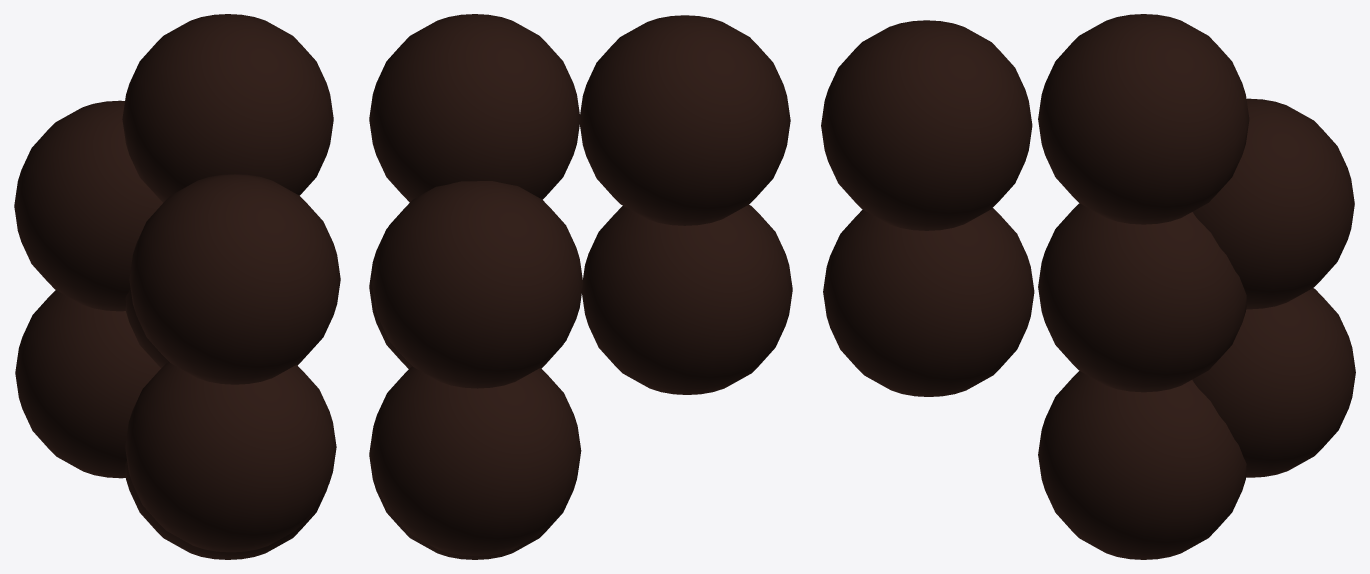
Rendered from Boba.glb.
3 renders of one model, left to right at view 1: azimuth 30°, elevation 25°; view 2: azimuth 150°, elevation 25°; view 3: azimuth 270°, elevation 25°, orthographic.
Parts seen in each view (by area): view 1: Sphere.005, Sphere.002, Sphere.006, Sphere.004, Sphere.001, Sphere, Sphere.003; view 2: Sphere.005, Sphere.004, Sphere.002, Sphere.001, Sphere.006, Sphere, Sphere.003; view 3: Sphere.005, Sphere.006, Sphere.002, Sphere.003, Sphere, Sphere.004, Sphere.001.
Boxes of the visible parts, box(x1,y1,x2,y2) form: Sphere.005: box(129, 174, 340, 384); Sphere.002: box(125, 362, 336, 552); Sphere.006: box(122, 14, 333, 202); Sphere.004: box(14, 100, 162, 311); Sphere.001: box(15, 290, 160, 478); Sphere: box(125, 461, 327, 559); Sphere.003: box(125, 288, 305, 368); Sphere.005: box(580, 15, 790, 225); Sphere.004: box(372, 181, 583, 388); Sphere.002: box(582, 204, 792, 394); Sphere.001: box(370, 366, 581, 556); Sphere.006: box(369, 14, 580, 202); Sphere: box(369, 432, 577, 559); Sphere.003: box(369, 227, 563, 368); Sphere.005: box(821, 20, 1032, 230); Sphere.006: box(1038, 14, 1249, 224); Sphere.002: box(823, 208, 1034, 396); Sphere.003: box(1038, 203, 1246, 392); Sphere: box(1038, 371, 1246, 559); Sphere.004: box(1192, 98, 1354, 309); Sphere.001: box(1192, 288, 1355, 477).
Bounding box in the file's own units: 0.1886 × 0.33 × 0.3036.
